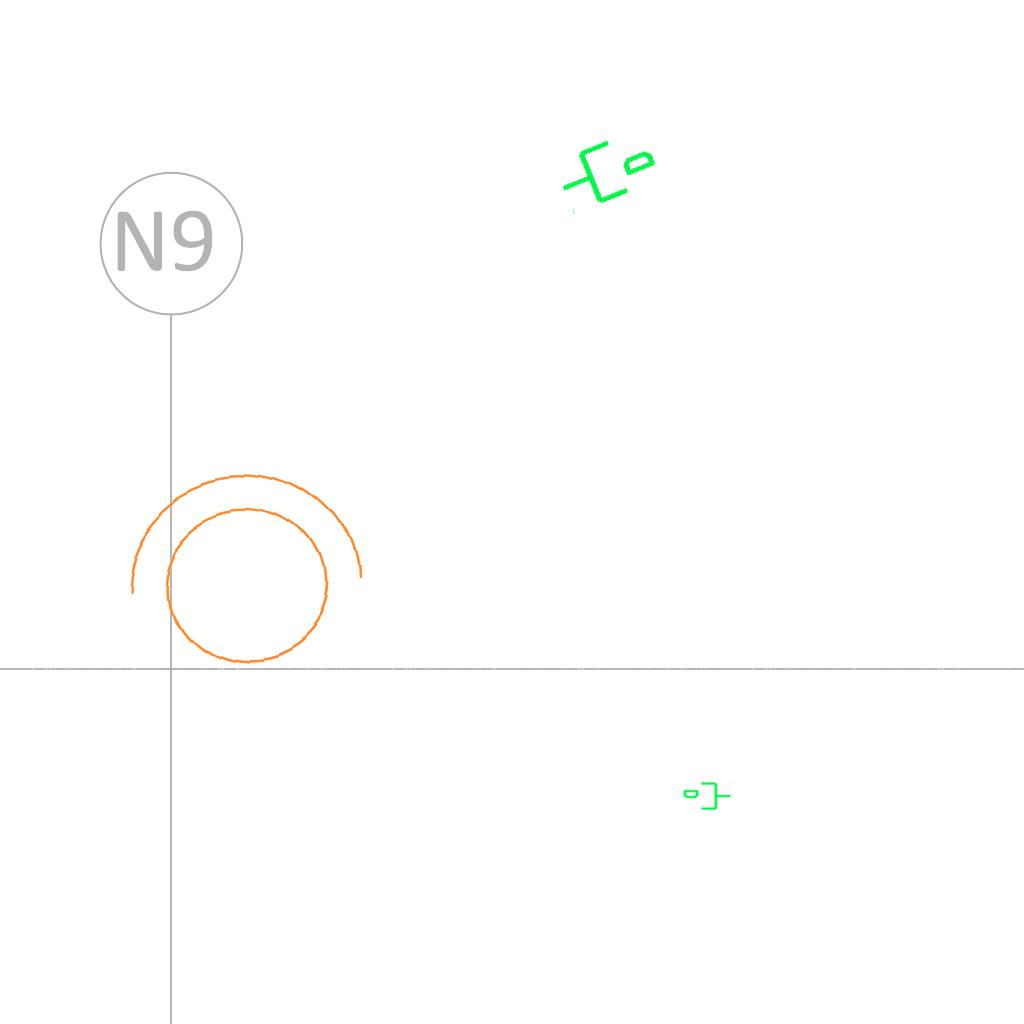Datenanschluss_einfach: (547, 118, 666, 220), (682, 780, 732, 814)
Scheinwerfer_fuer_Alarmbeleuchtung: (100, 455, 380, 698)
